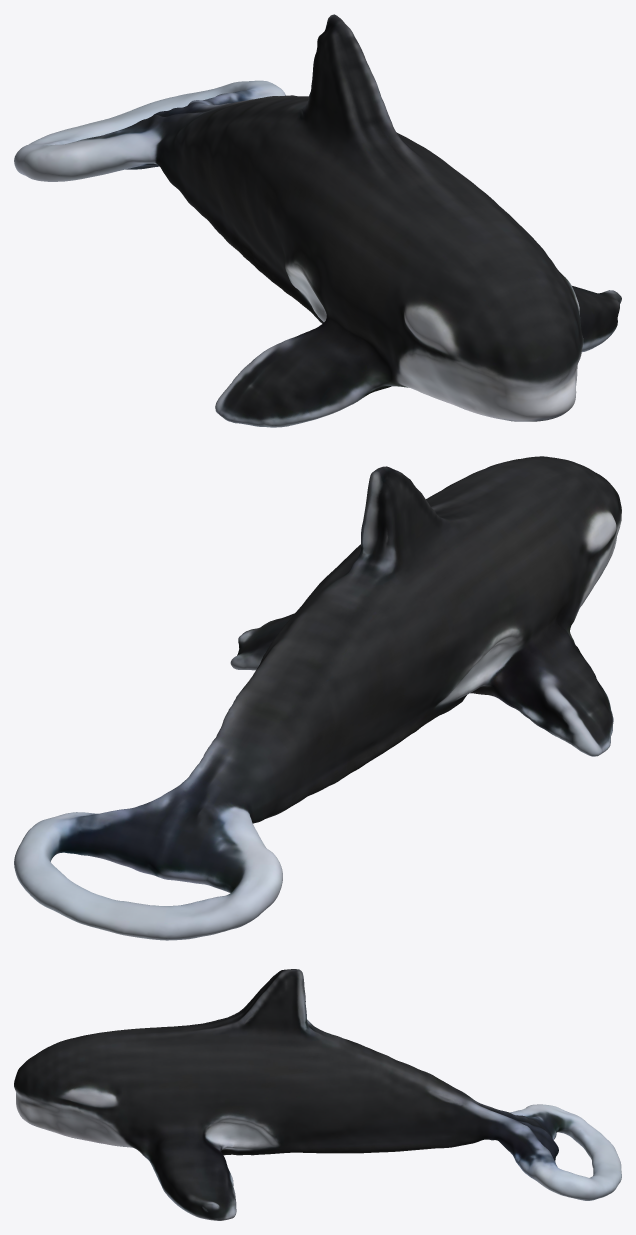
Rendered from 0fd40d302294_acrylic_orca_key_chain__3d_a_0_glb.glb.
3 renders of one model, top to bottom at view 1: azimuth 30°, elevation 25°; view 2: azimuth 150°, elevation 25°; view 3: azimuth 270°, elevation 25°, orthographic. The views are drawn at different scales.
Parts seen in each view (by area): view 1: world; view 2: world; view 3: world.
Boxes of the visible parts, bbox=[...] form: world: bbox=[14, 14, 621, 427]; world: bbox=[14, 456, 621, 940]; world: bbox=[14, 969, 621, 1220].
Bounding box in the file's own units: 0.2676 × 0.2065 × 0.5767.
1 material, 1 textured.
